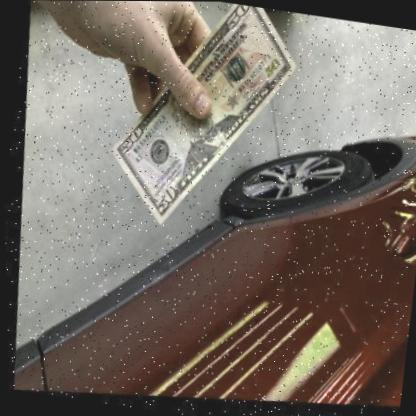dollar_front: (106, 3, 294, 227)
